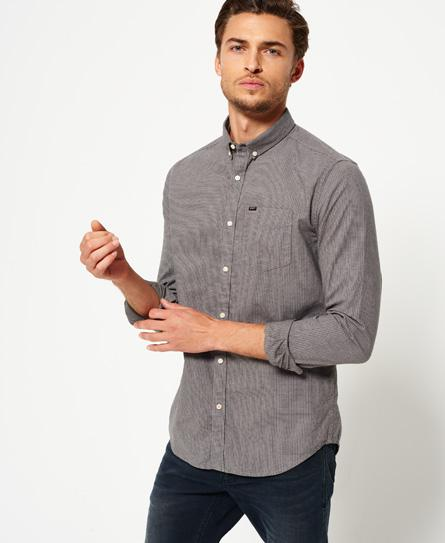teeshirt: (130, 111, 386, 481)
